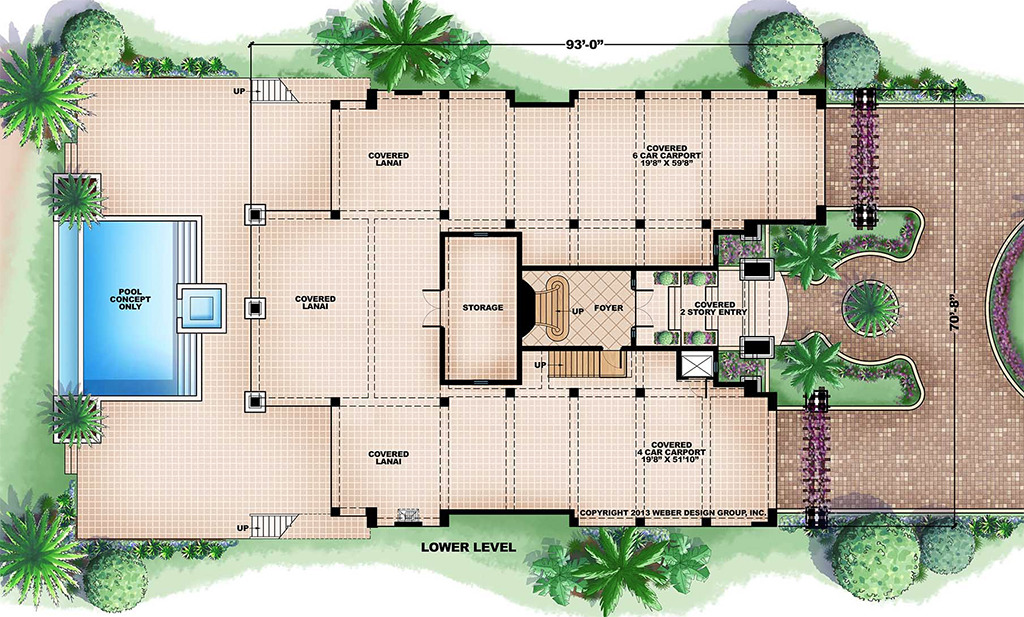door: (633, 287, 657, 332), (422, 285, 441, 328)
stairs: (535, 348, 630, 383), (534, 274, 580, 344), (234, 76, 295, 104), (235, 513, 302, 536)
